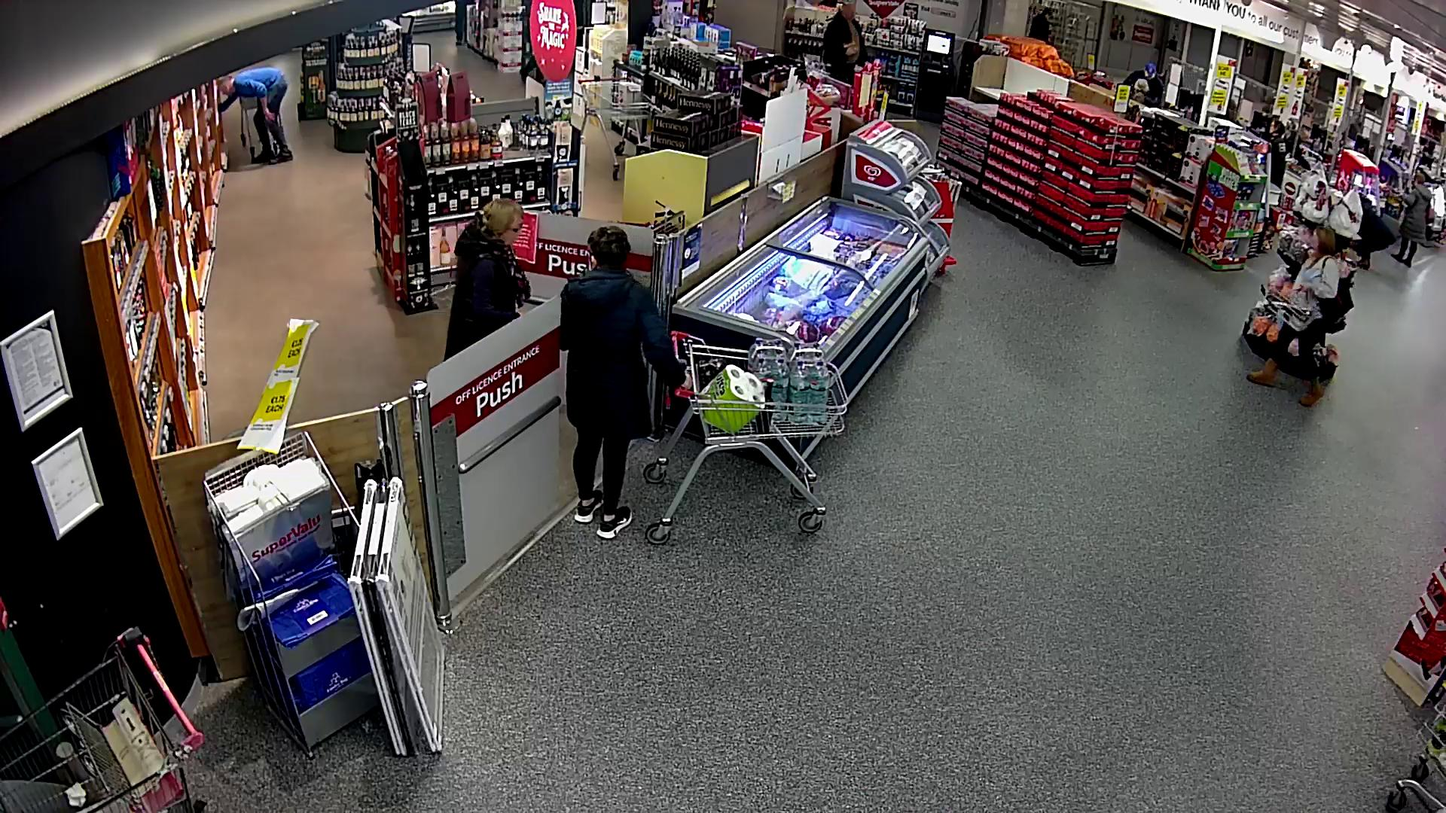backpack-or-handbag: (1317, 277, 1355, 325)
empty-basket: (1265, 285, 1315, 331)
filled-trolly: (648, 328, 847, 543)
person: (561, 224, 689, 540), (1247, 228, 1339, 407)
person-with-backpack-handbag-and-shopping-bag-s-: (1247, 227, 1355, 407)
person-with-filled-basket-trolly: (561, 224, 849, 545)
